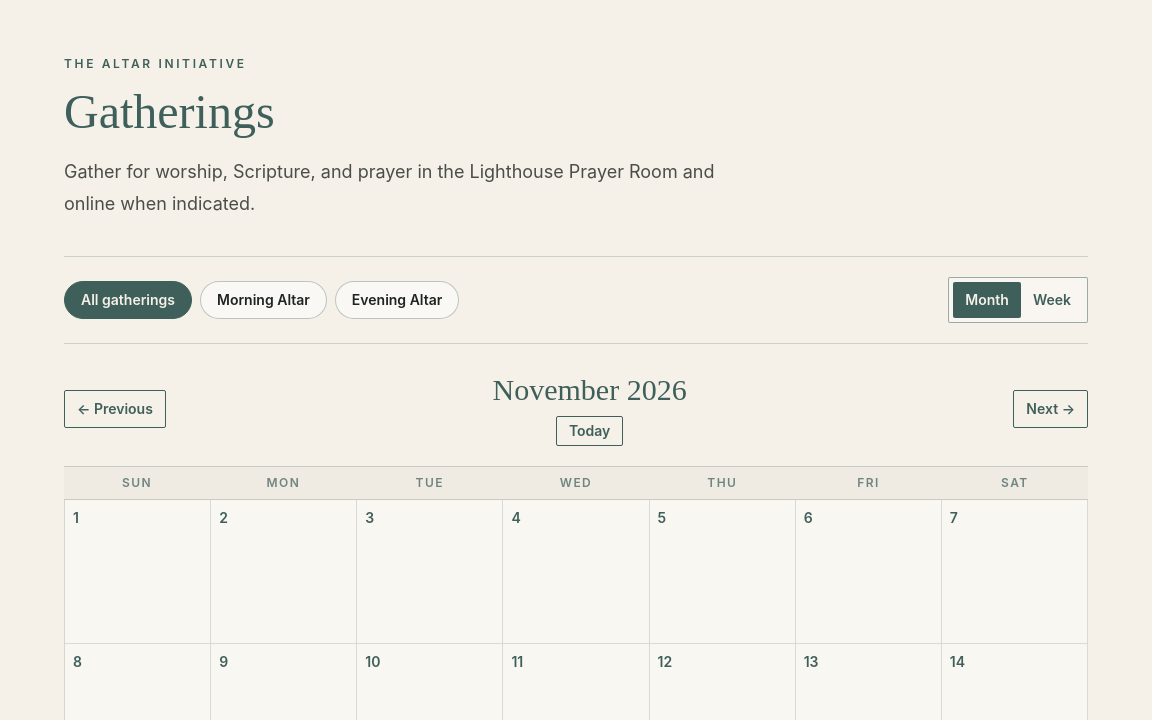
opens the current month even when the database contains only October events
The width and height of the screenshot is (1152, 720).
Expected: the heading "November 2026" is shown, [492,372,687,408]
Step 1. Click the button with aria-label "Previous month" → [115, 409], box [64,390,166,428]
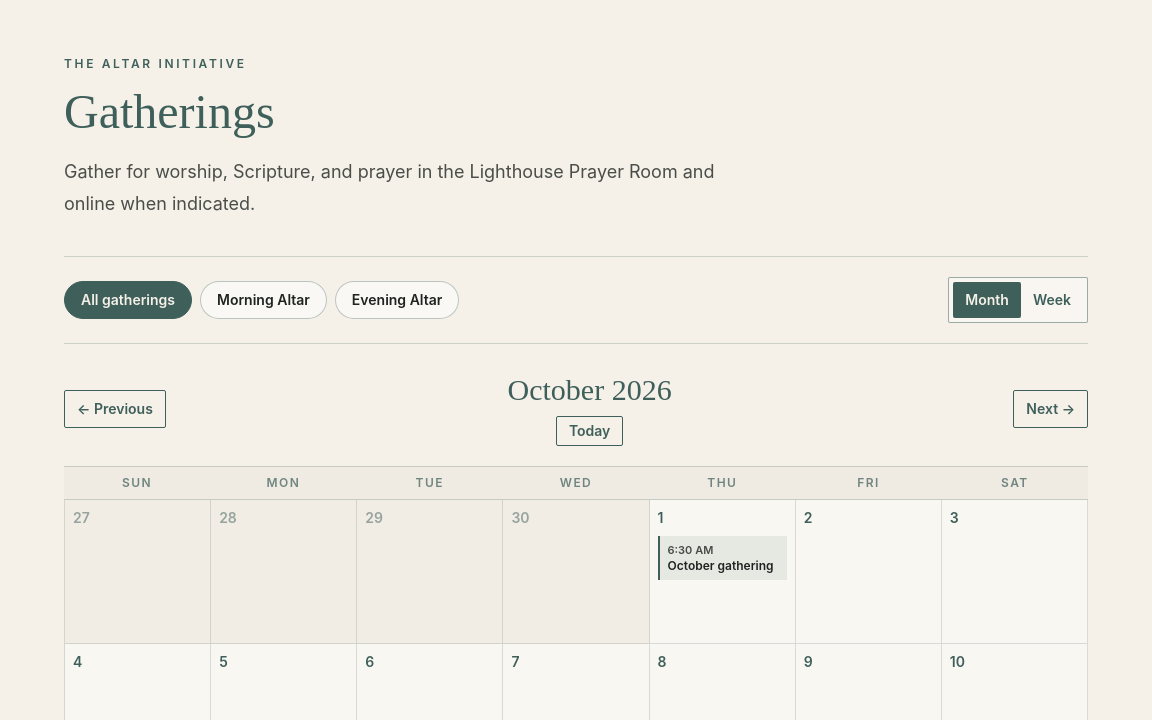
Step 2. Click the button "Today" → [590, 431], box [556,416,623,446]
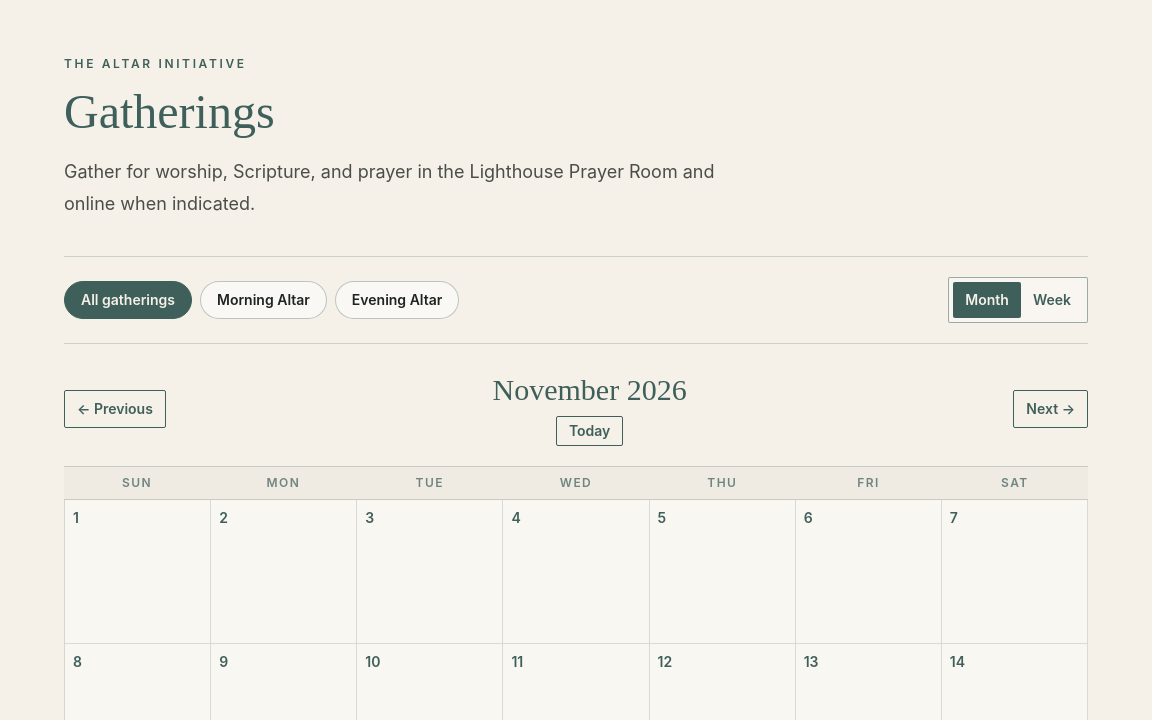
Now the heading "November 2026" is shown, box [492,372,687,408]
